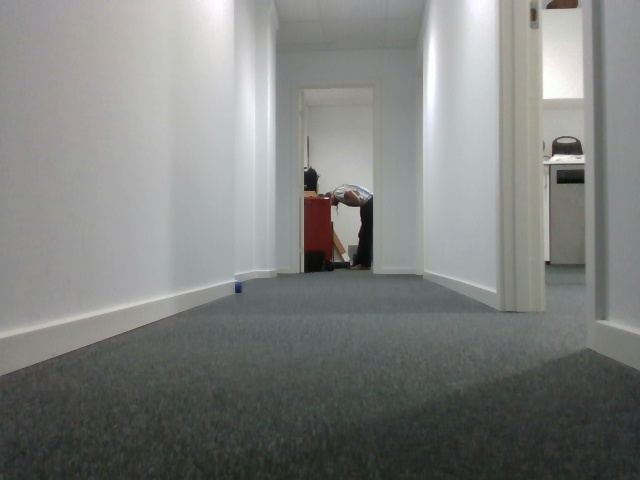alfa: (233, 280, 244, 297)
